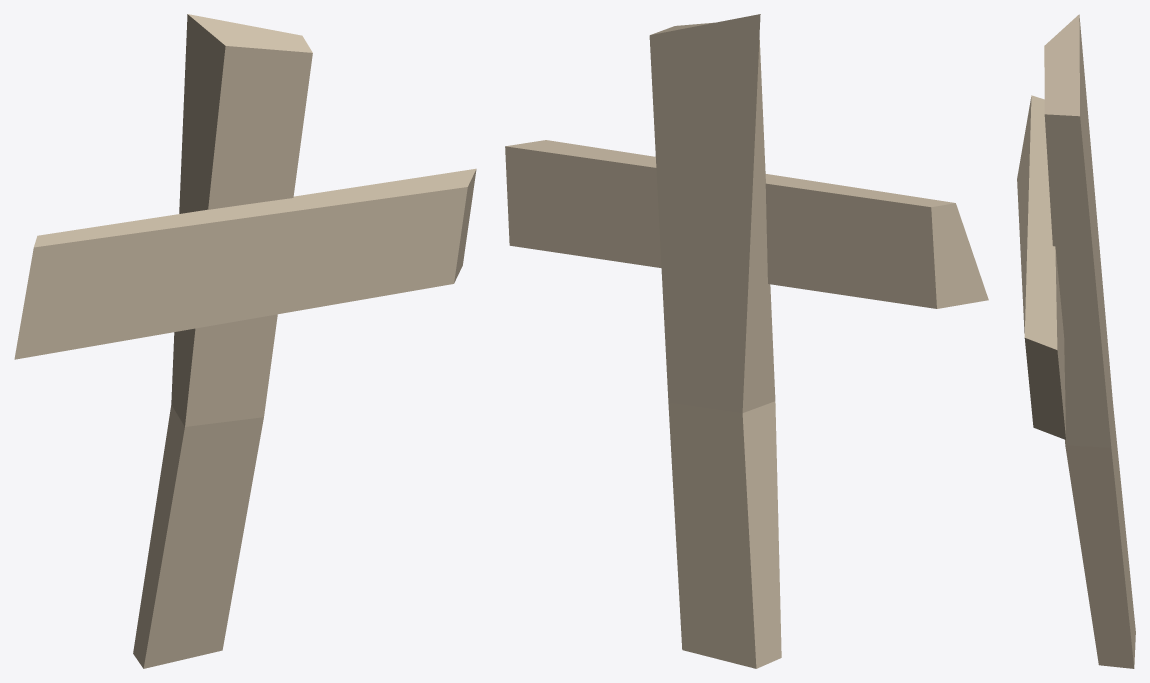
The model's file is Cross.fbx.
The picture shows the model from 3 angles, left to right: view 1: azimuth 30°, elevation 25°; view 2: azimuth 150°, elevation 25°; view 3: azimuth 270°, elevation 25°; orthographic projection. The views are drawn at different scales.
Parts seen in each view (by area): view 1: Cross; view 2: Cross; view 3: Cross.
Part boxes in pixels (box(x1,y1,x2,y2)): Cross: box(14, 14, 476, 668); Cross: box(505, 14, 988, 668); Cross: box(1017, 14, 1135, 668).
Size of the model in its own units: 118 by 26.11 by 153.
